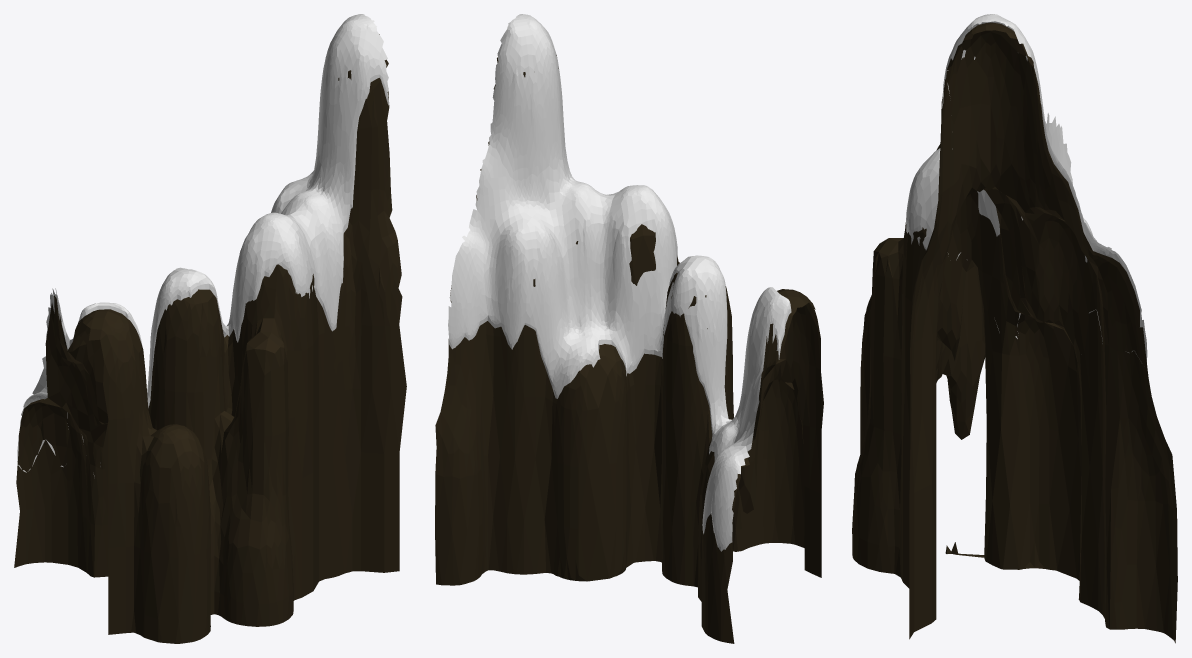
Rendered from Mtn_Corner_SW.fbx.
3 views of the same model, side by side, from view 1: azimuth 30°, elevation 25°; view 2: azimuth 150°, elevation 25°; view 3: azimuth 270°, elevation 25° (orthographic). The views are drawn at different scales.
Parts seen in each view (by area): view 1: Mtn_Corner_SW; view 2: Mtn_Corner_SW; view 3: Mtn_Corner_SW.
Part boxes in pixels (box(x1,y1,x2,y2)): Mtn_Corner_SW: box(14, 14, 406, 643); Mtn_Corner_SW: box(435, 14, 823, 643); Mtn_Corner_SW: box(852, 14, 1177, 643).
Bounding box in the file's own units: 16250 × 27360 × 13026.
